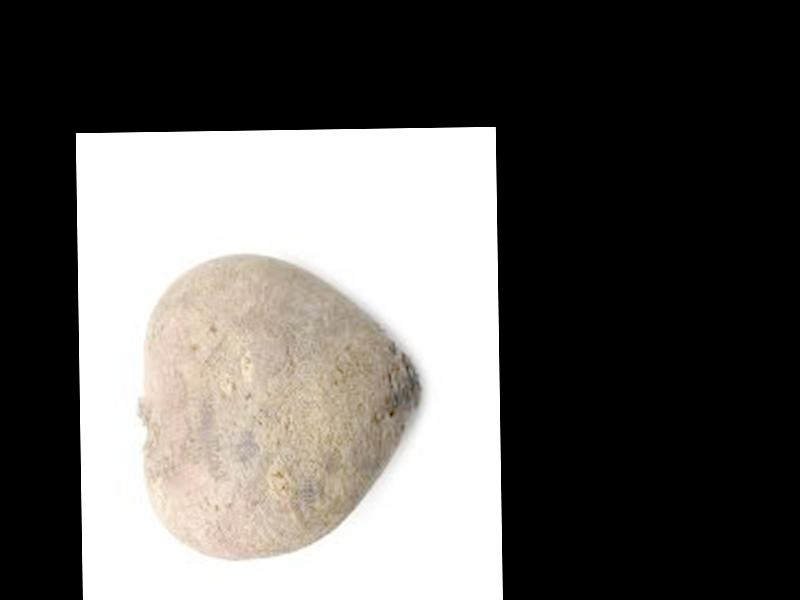Beet: (138, 249, 422, 562)
